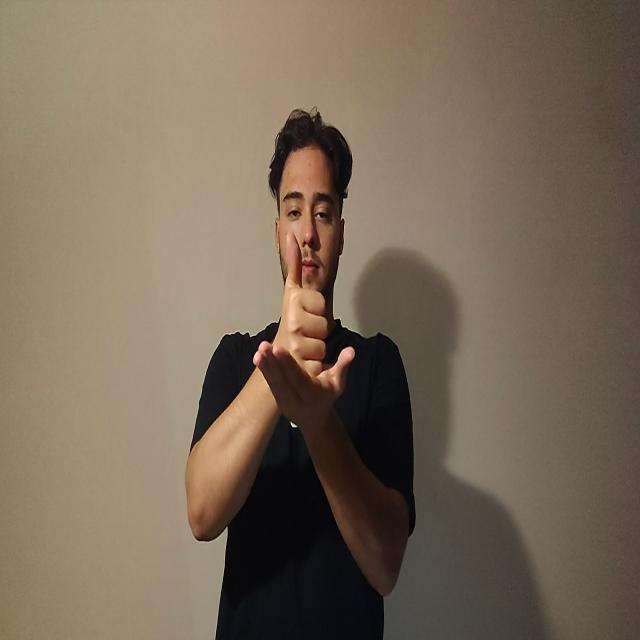help: (252, 232, 356, 416)
